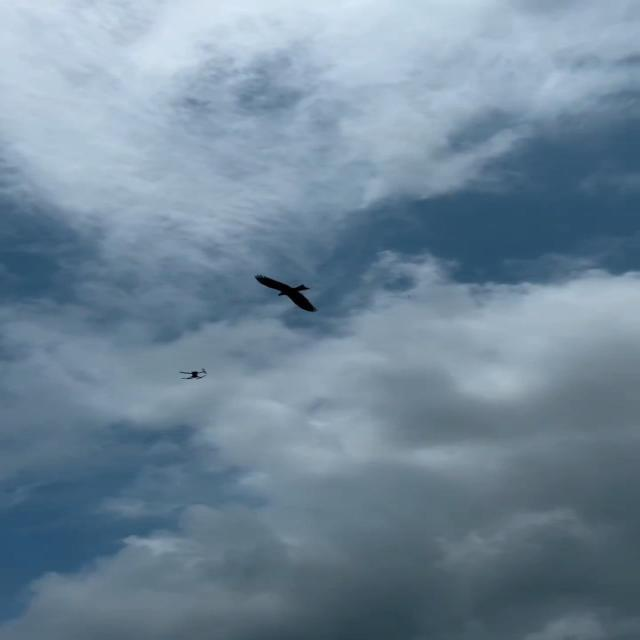bird: (252, 273, 318, 313)
drone: (178, 368, 206, 380)
